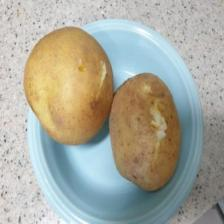Potato: (23, 24, 114, 146), (108, 70, 182, 193)
